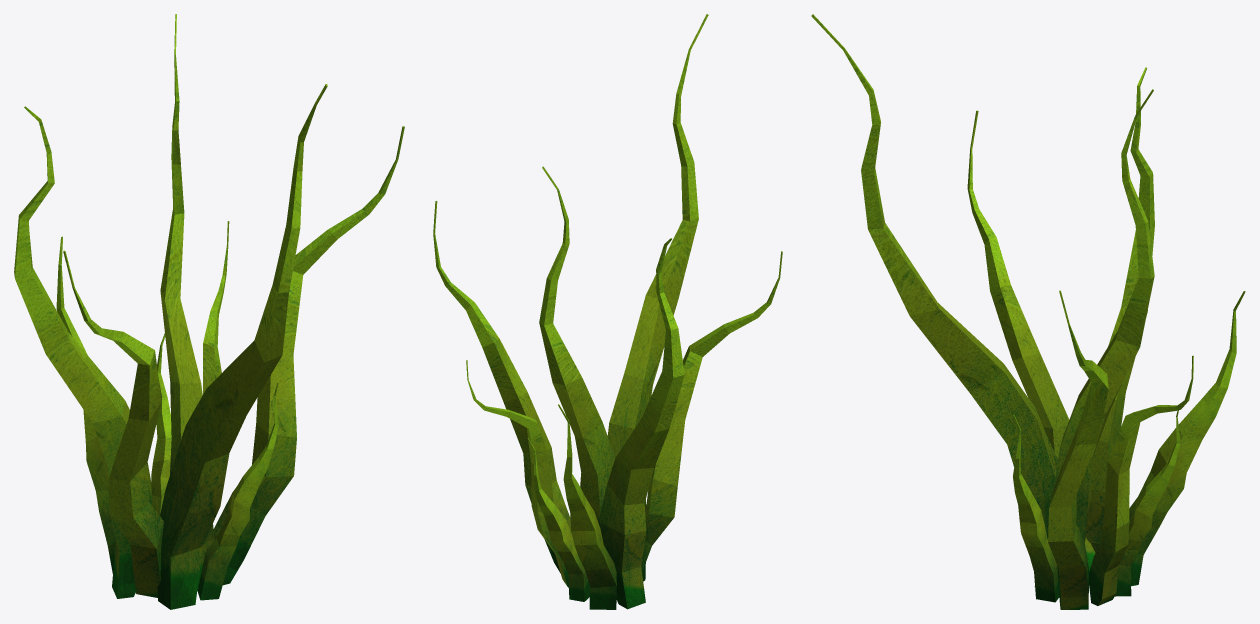
The model's file is algas.glb.
3 views of the same model, side by side, from view 1: azimuth 30°, elevation 25°; view 2: azimuth 150°, elevation 25°; view 3: azimuth 270°, elevation 25° (orthographic). The views are drawn at different scales.
Parts seen in each view (by area): view 1: Object_2; view 2: Object_2; view 3: Object_2.
Boxes of the visible parts, x1,y1,x2,y2 form: Object_2: (14,14,404,609); Object_2: (433,14,782,609); Object_2: (811,14,1245,609).
Size of the model in its own units: 4.84 by 7.26 by 4.91.
Materials: 1 (1 with a texture image).
